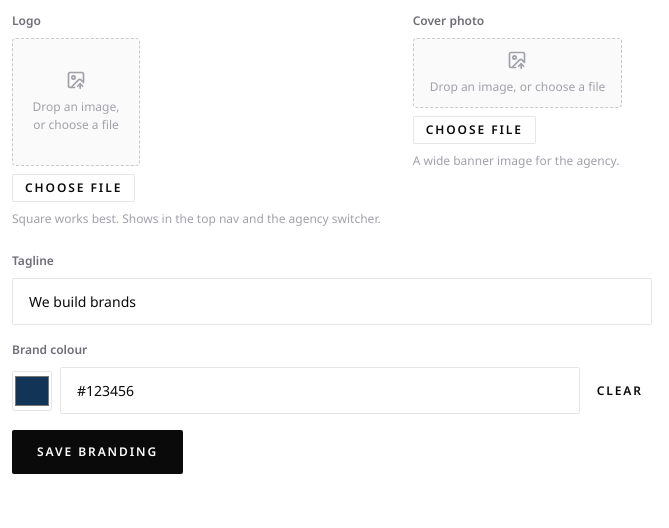
Test: AgencyBrandingForm › saves trimmed values and shows the confirmation
Click the button "Save branding" at coordinates (98, 452), box [12,430,183,474]
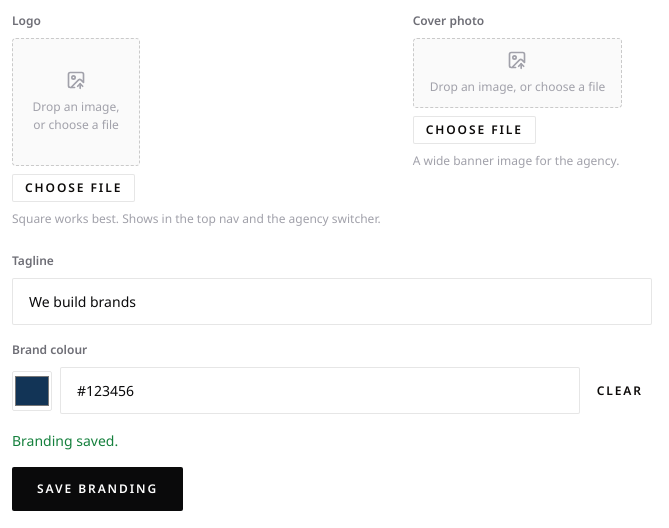
Now the text "Branding saved." is shown, box [12,431,118,450]
